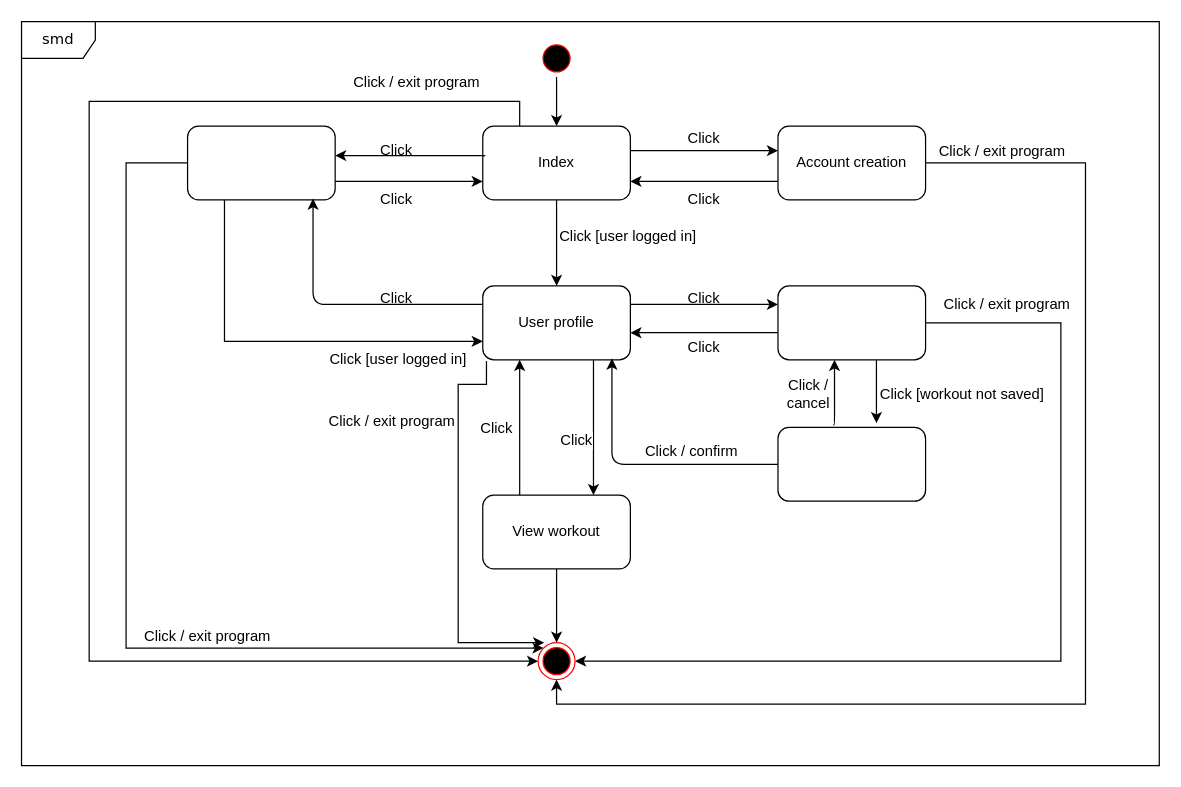
The diagram is 1181 pixels wide and 787 high, and some of its shapes have lost their labels. Each missing label, with the box of its shape:
Confirm exit: (777, 426, 926, 501)
View exercises: (186, 125, 335, 200)
Workout creation: (777, 285, 926, 360)
